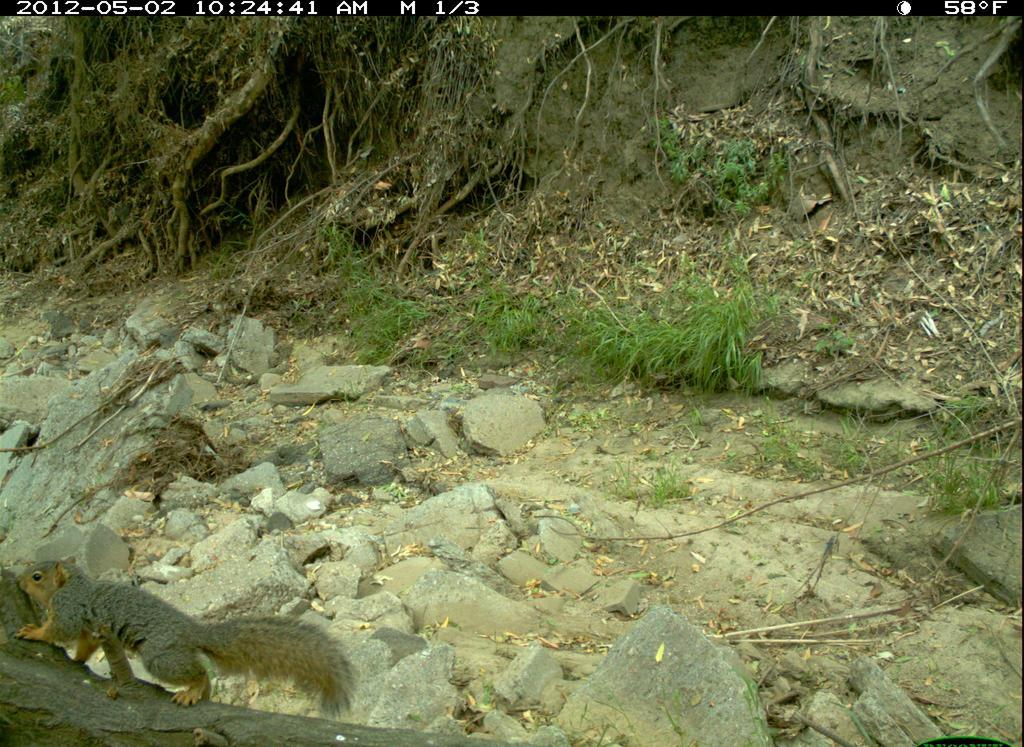squirrel: (16, 545, 369, 733)
